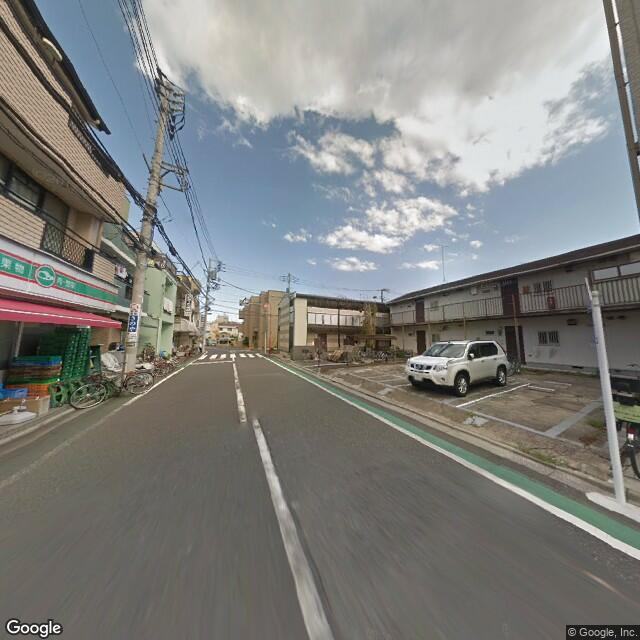lawson: (1, 240, 116, 317)
